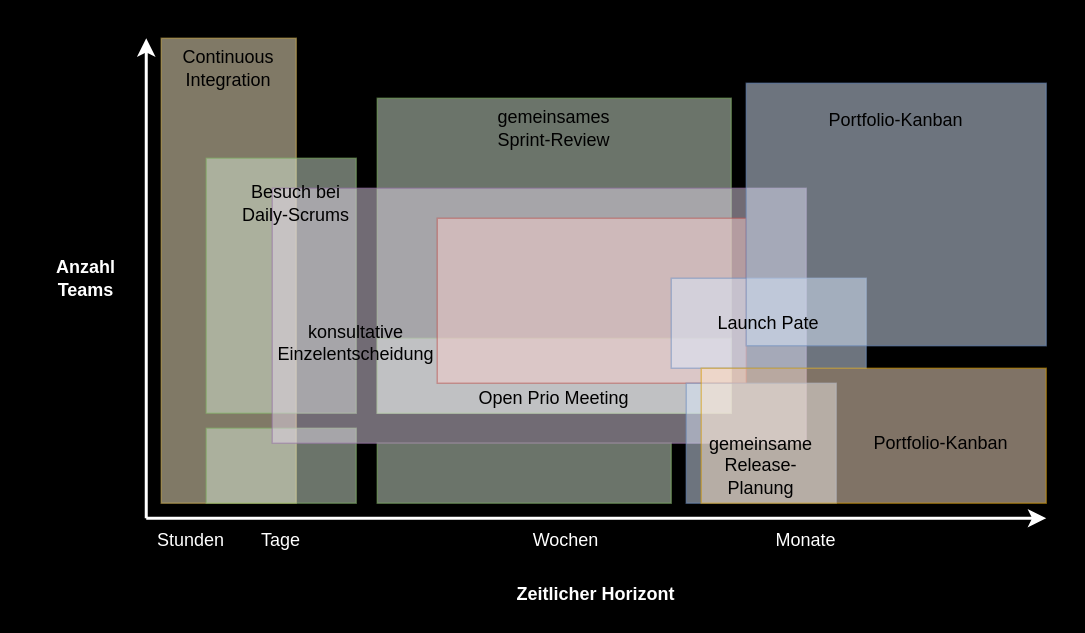
The diagram is 1085 pixels wide and 633 high, and some of its shapes have lost their labels. The box of each missing label's shape, as (x1, y1, x2, y2) in pixels:
gemeinsame Sprint-Planung: (376, 442, 671, 503)
Scrum of Scrums: (205, 427, 356, 503)
Task-Forces: (436, 217, 746, 383)
